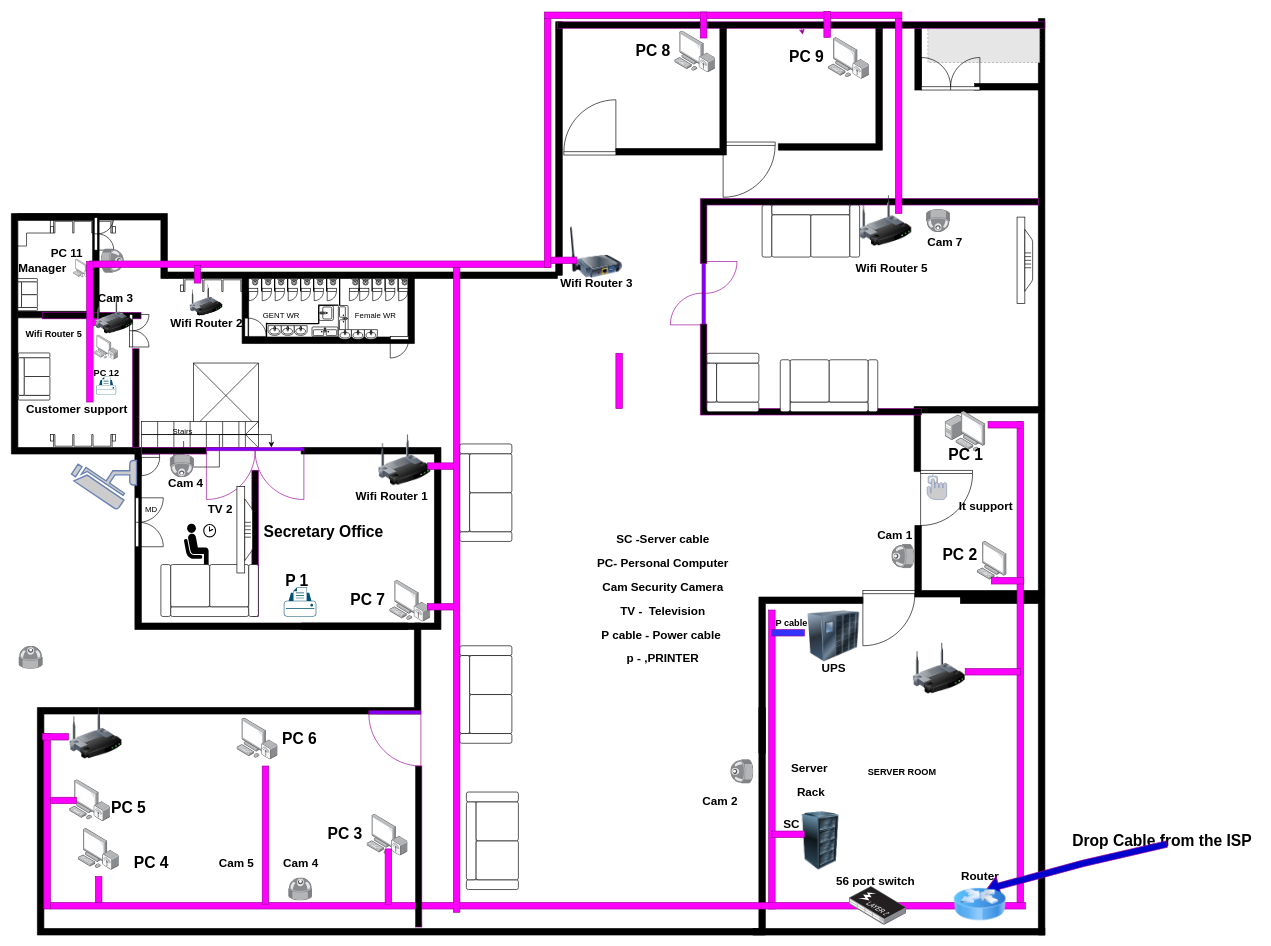
Some shapes in this 1271 by 946 pixel diagram are drawn without their labels. Grey dashed boxes stand in for pictures. Each missing label, with the centre of its shape:
"Elevator" goes at (225,395).
"P 2" goes at (106,385).
